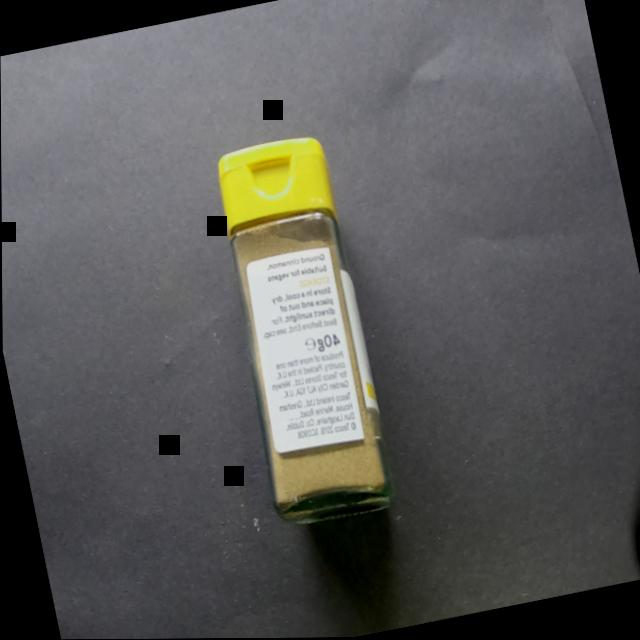Cinnamon: (162, 97, 420, 578)
